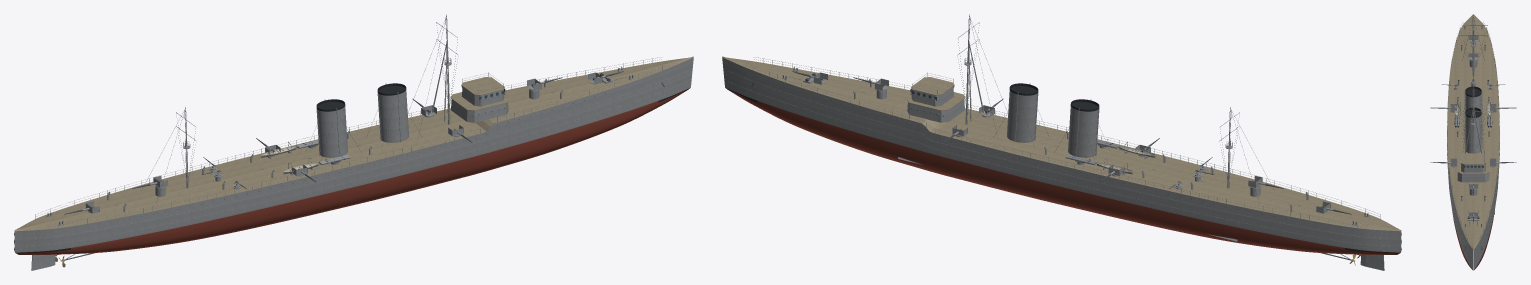
File: emden_cl.glb
3 renders of one model, left to right at view 1: azimuth 30°, elevation 25°; view 2: azimuth 150°, elevation 25°; view 3: azimuth 270°, elevation 25°, orthographic. The views are drawn at different scales.
Visible parts, largest first — view 1: Emden; view 2: Emden; view 3: Emden.
Boxes of the visible parts, box(x1,y1,x2,y2) form: Emden: box(14, 14, 693, 270); Emden: box(722, 14, 1401, 270); Emden: box(1430, 14, 1516, 270).
Bounding box in the file's own units: 155 × 34.34 × 23.54.
Materials: 8 (2 with a texture image).
